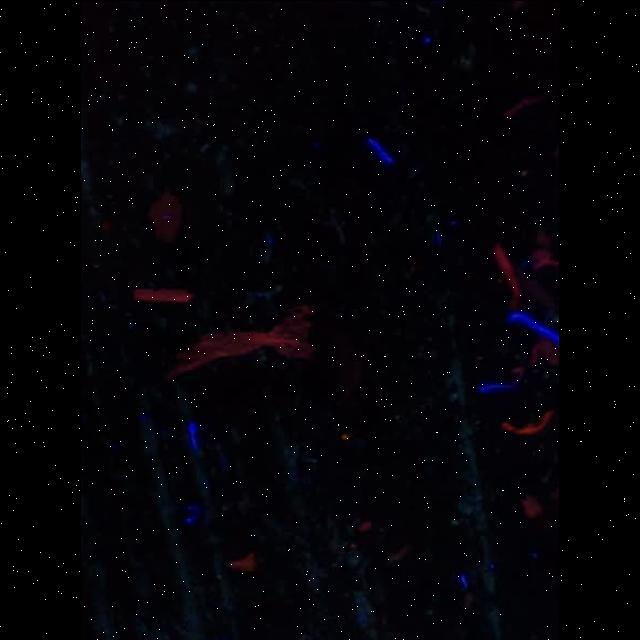Fragment: (132, 288, 192, 303)
